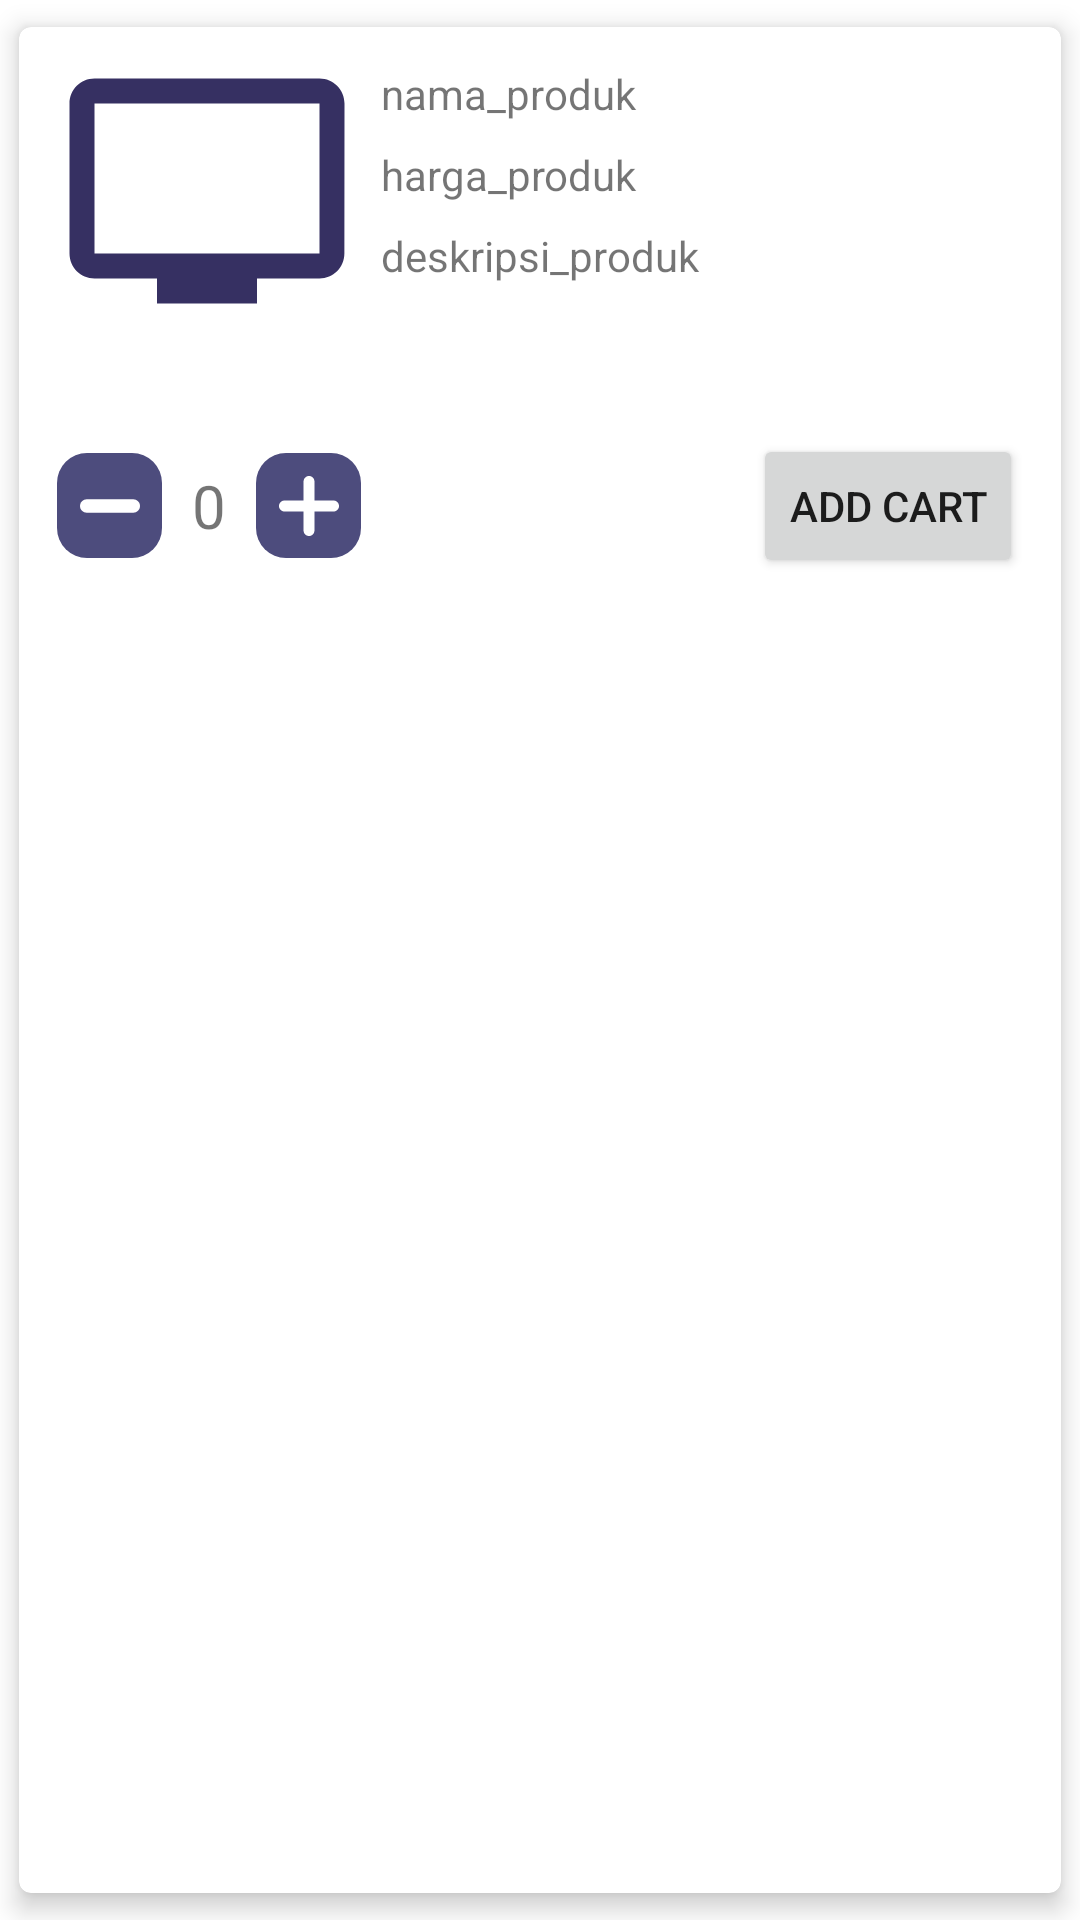

Locate icon controls on the screen. Image size 1080w x 1920h, boxes as (x1, y1, x2, y2).
minus: (57, 453, 162, 558)
personal video: (69, 78, 345, 304)
plus: (256, 453, 361, 558)
